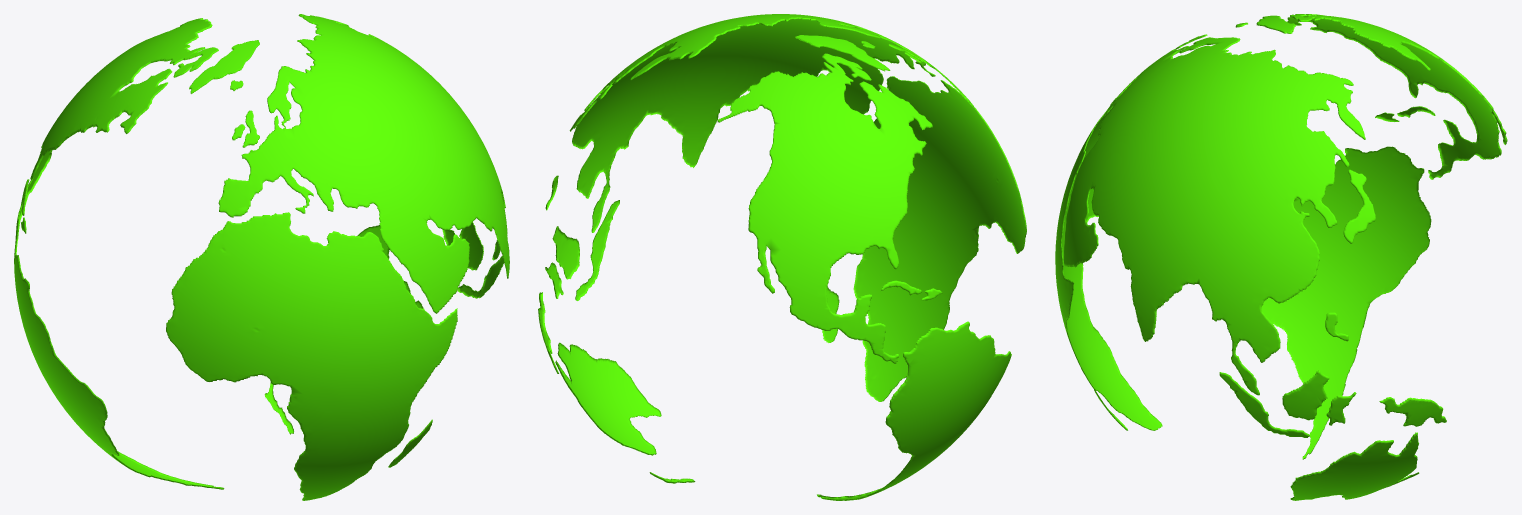
File: globe.obj
3 views of the same model, side by side, from view 1: azimuth 30°, elevation 25°; view 2: azimuth 150°, elevation 25°; view 3: azimuth 270°, elevation 25° (orthographic).
Visible parts, largest first — view 1: Sphere001; view 2: Sphere001; view 3: Sphere001.
Part boxes in pixels (left/top/right/bottom): Sphere001: left=14, top=14, right=509, bottom=500; Sphere001: left=538, top=14, right=1026, bottom=500; Sphere001: left=1055, top=14, right=1507, bottom=500.
Bounding box in the file's own units: 118 × 118 × 109.
